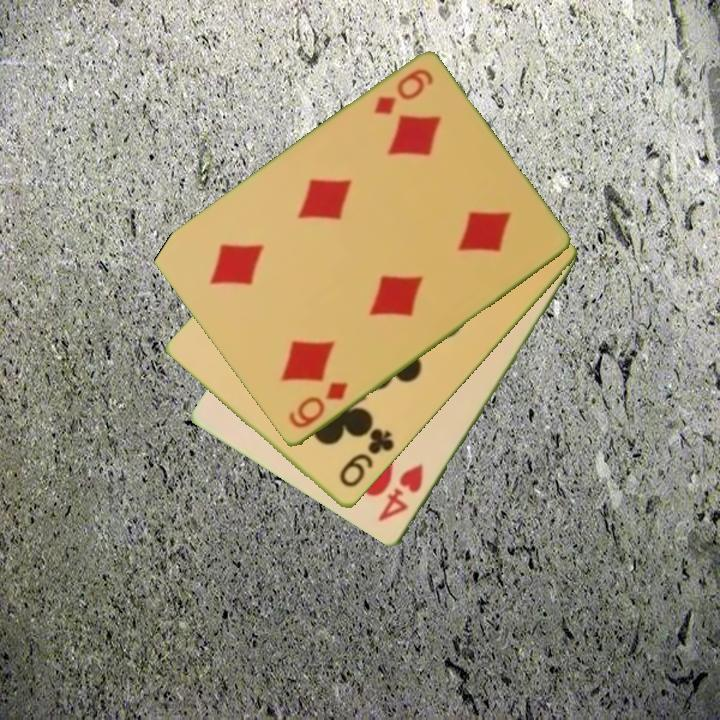4h: (374, 460, 427, 526)
6d: (285, 378, 351, 432), (370, 65, 436, 119)
9c: (335, 425, 398, 491)
